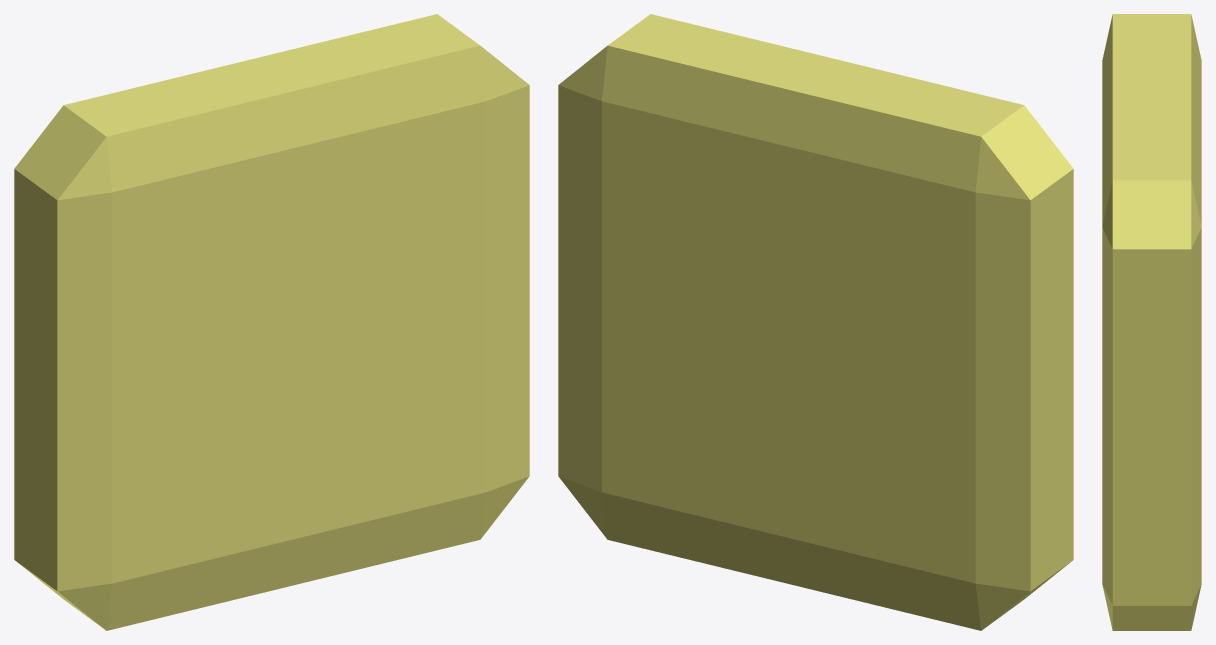
File: powerObject.fbx
The picture shows the model from 3 angles, left to right: view 1: azimuth 30°, elevation 25°; view 2: azimuth 150°, elevation 25°; view 3: azimuth 270°, elevation 25°; orthographic projection. The views are drawn at different scales.
Parts seen in each view (by area): view 1: Cube.001; view 2: Cube.001; view 3: Cube.001.
Boxes of the visible parts, x1,y1,x2,y2 form: Cube.001: [14, 14, 529, 630]; Cube.001: [558, 14, 1073, 630]; Cube.001: [1102, 14, 1201, 630].
Size of the model in its own units: 100 by 100 by 20.
